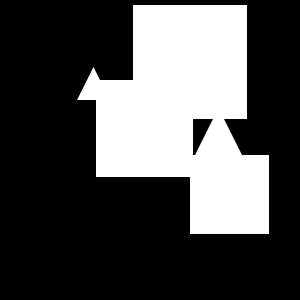circle: (133, 5, 247, 119), (96, 80, 193, 177), (190, 155, 269, 234)
triangle: (185, 108, 252, 175), (77, 67, 110, 100)
